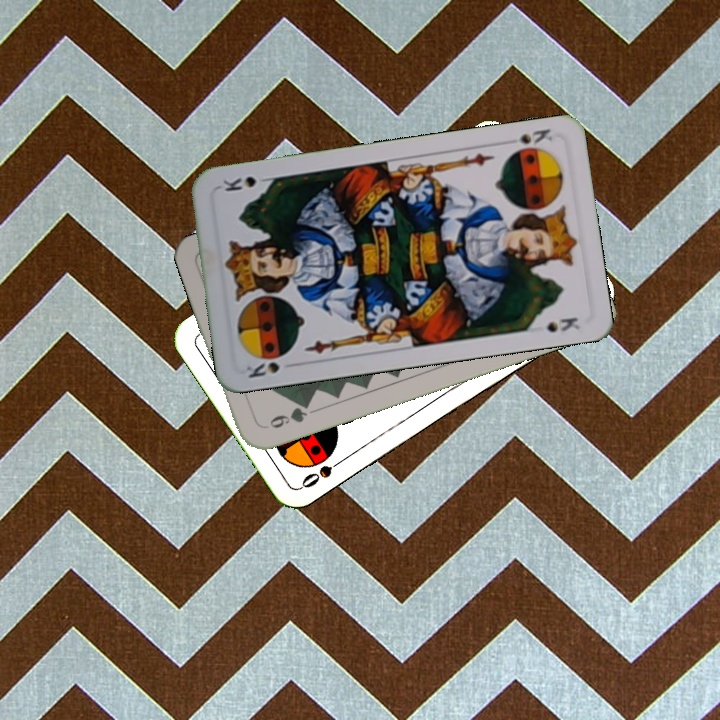G9: (259, 398, 313, 432)
SK: (242, 358, 299, 381), (500, 124, 555, 147)
SO: (297, 452, 350, 491)
